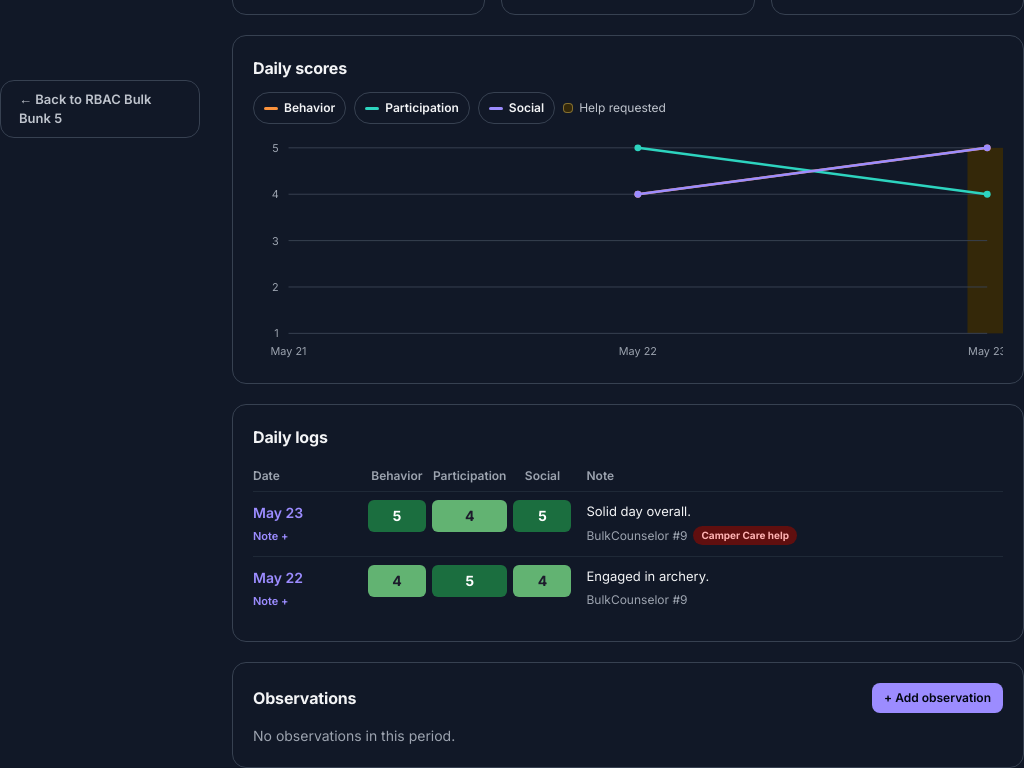
Test: SubjectDetail › opens observation composer prepopulated from a form-response row
(page scrolled)
What coordinates should you click on to do the following:
click the button with test id "subject-add-observation-228"
I would click on:
 (271, 537)
Its box is [253,528,288,546].
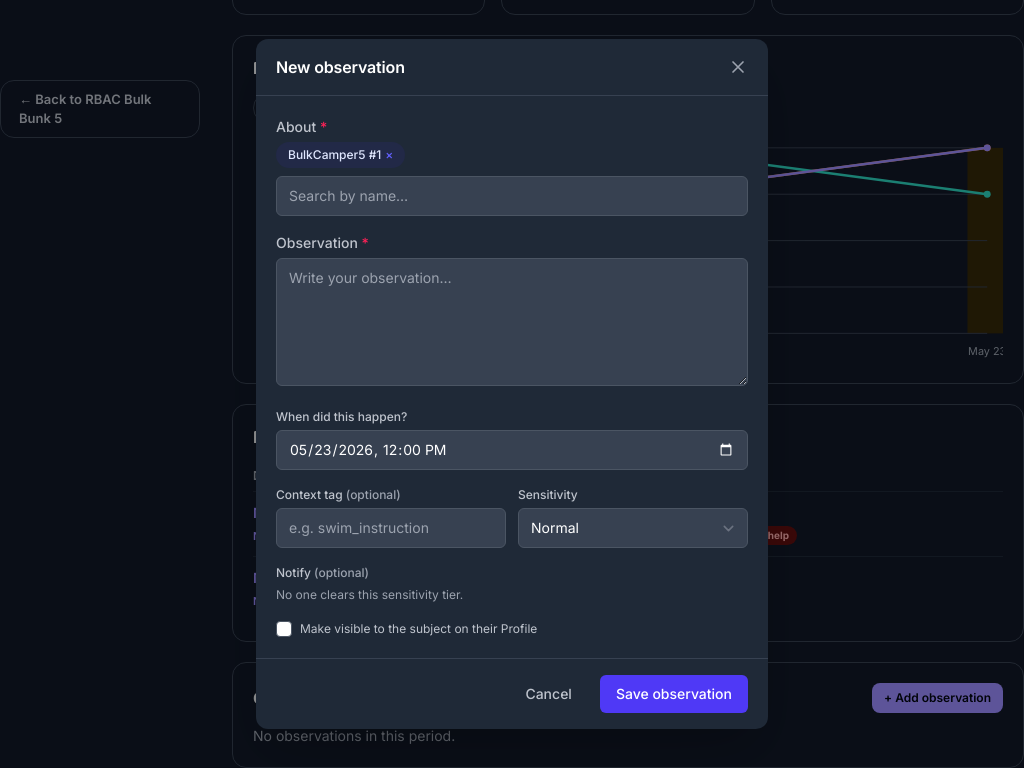
Expected: the field with test id "observation-composer-observed-at" holds "2026-05-23T12:00", [276,430,748,470]
Expected: the element with test id "observation-subject-chips" shows "BulkCamper5 #1", [288,147,381,162]
